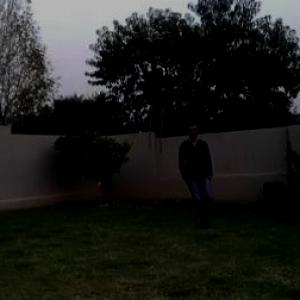follow: (180, 117, 216, 233)
